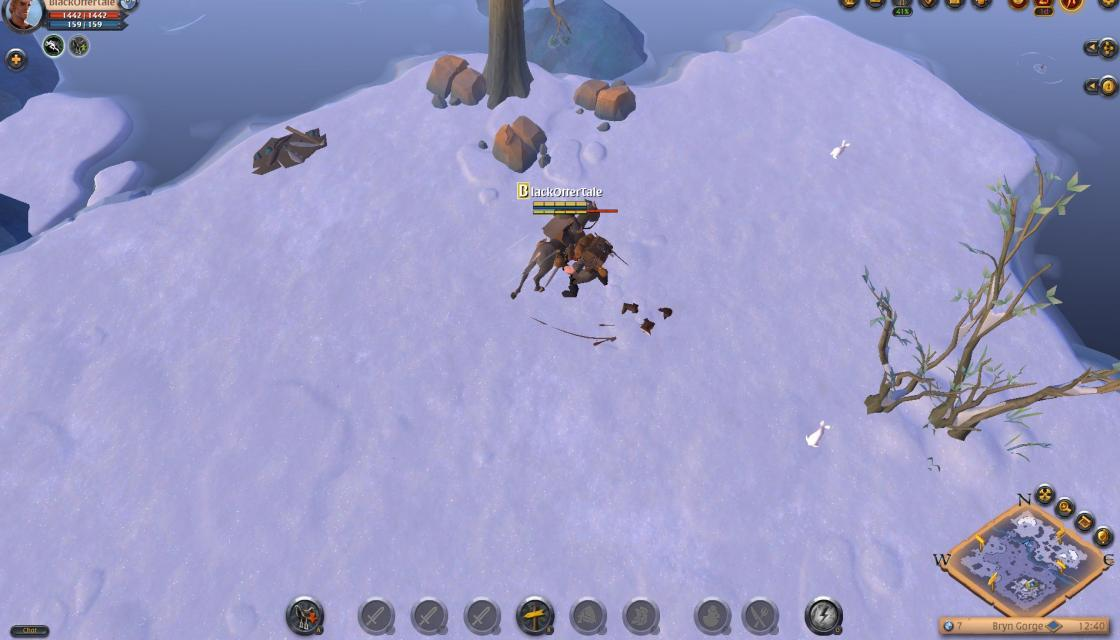limestone: (486, 109, 552, 172), (422, 55, 492, 107), (571, 75, 641, 123)
